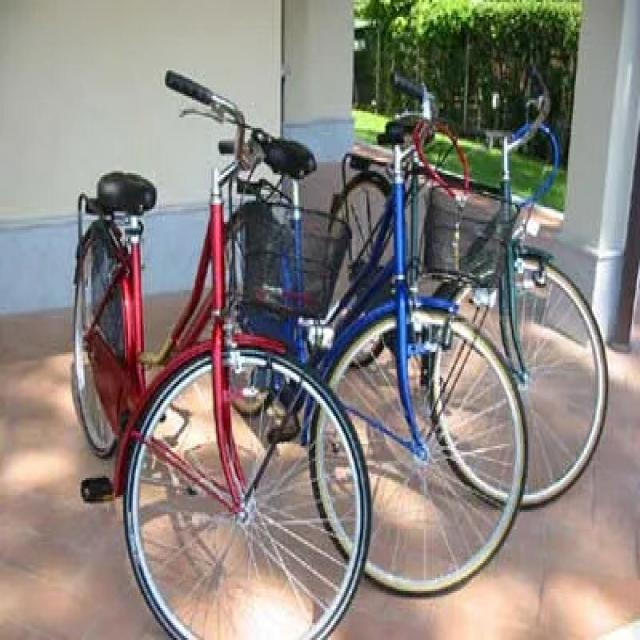basket: (241, 198, 353, 323), (424, 178, 520, 290)
